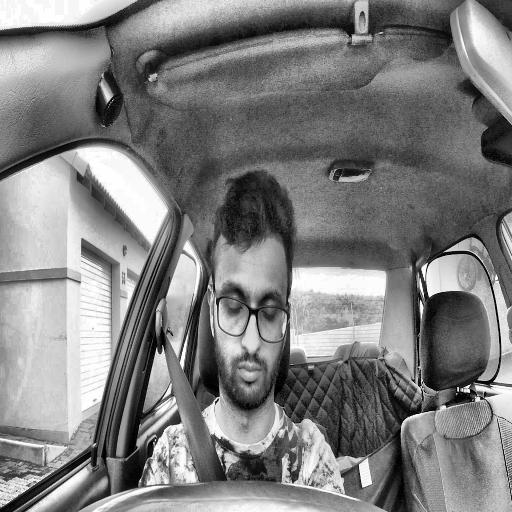drowsy: (206, 170, 296, 419)
